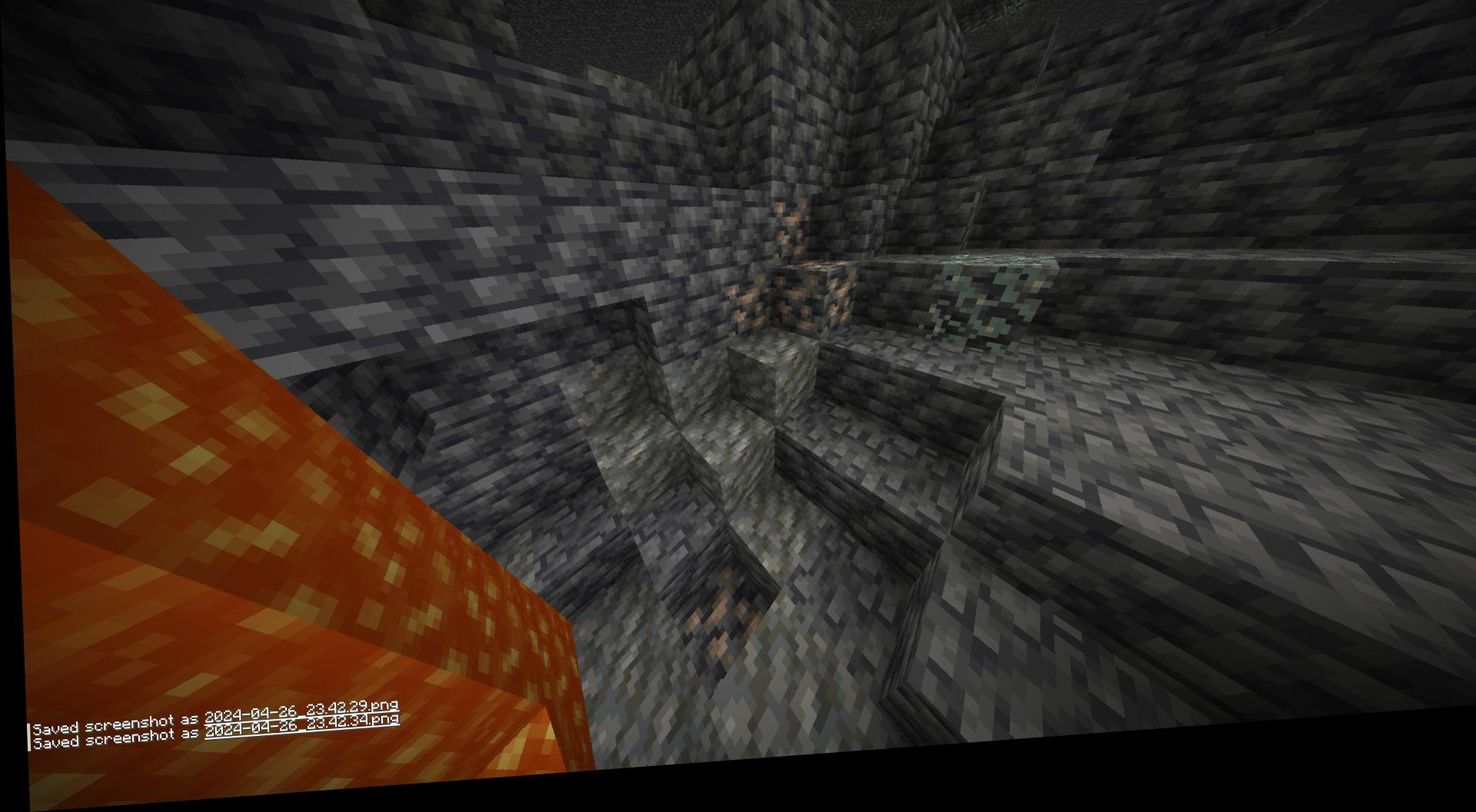iron ore: (669, 571, 764, 690), (774, 283, 828, 354), (763, 207, 815, 275), (728, 289, 776, 346), (829, 279, 870, 341)
